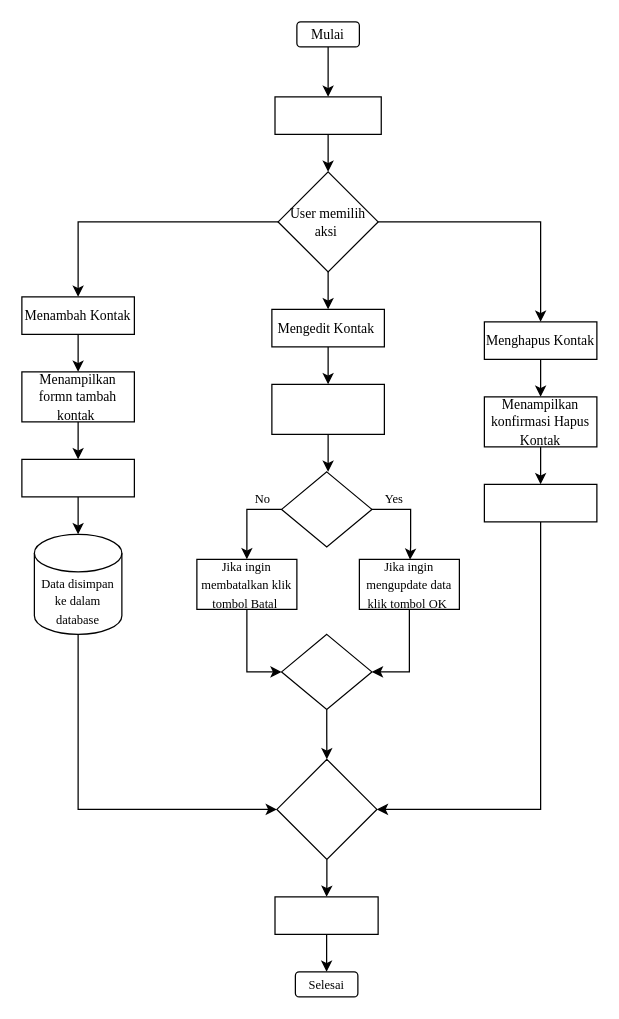
The diagram is 619 pixels wide and 1019 high, and some of its shapes have lost their labels. Each missing label, with the box of its shape:
Kembali ke halaman utama: (274, 896, 378, 934)
Menampilkan formn edit kontak: (271, 383, 384, 434)
Menampilkan Halaman Utama: (274, 96, 381, 134)
Mengklik tombol OK: (483, 483, 597, 522)
Mengklik tombol simpan: (21, 458, 134, 497)
